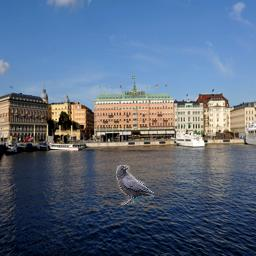Crow: (116, 165, 154, 205)
